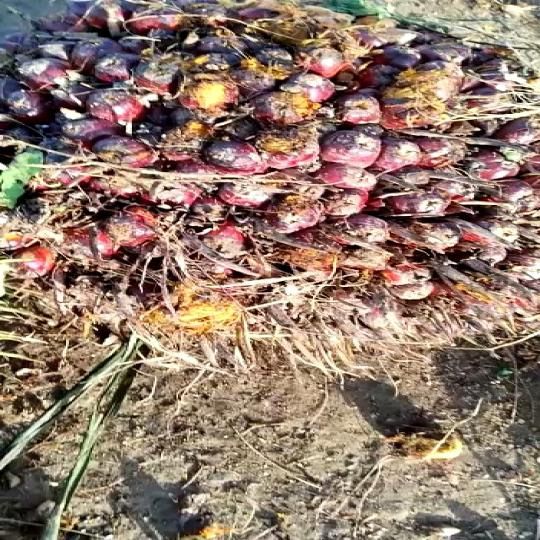masak: (0, 0, 540, 320)
